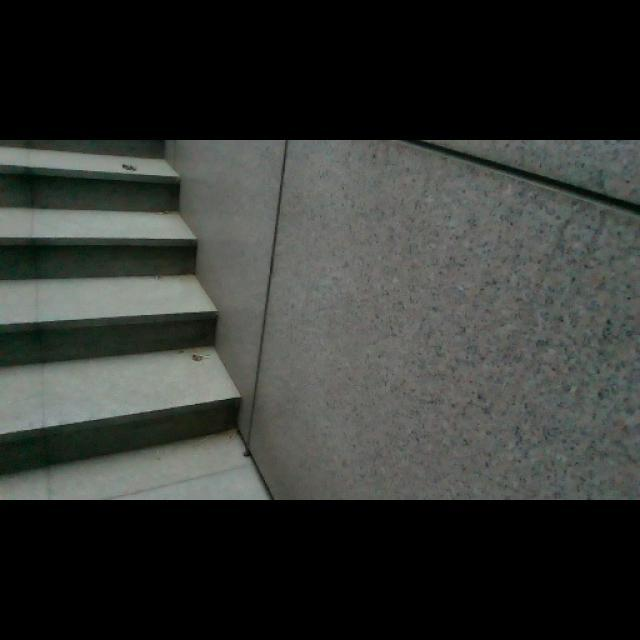stair: (2, 148, 190, 492)
